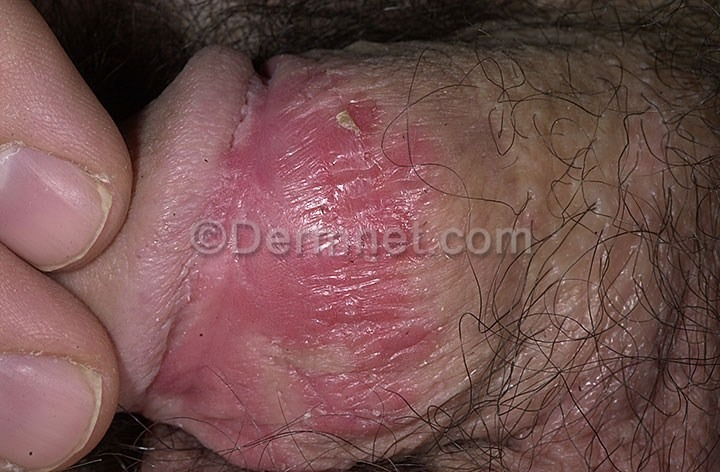Psoriasis: (186, 77, 453, 446)
